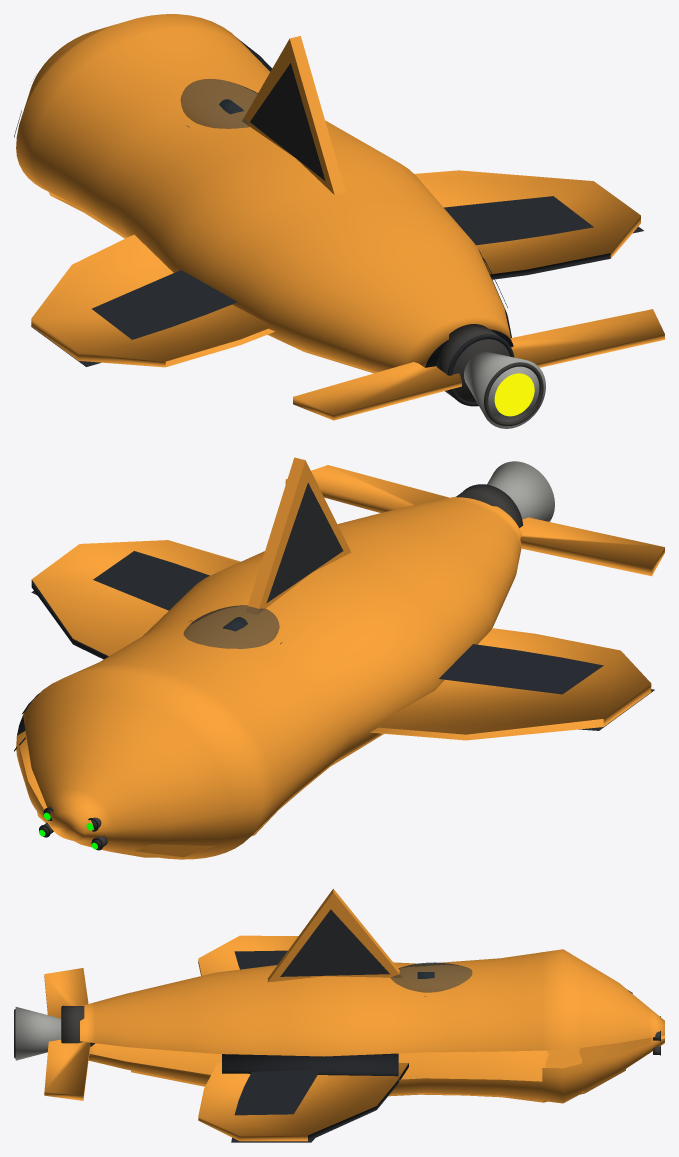
The model's file is Ship_Orca_135963.glb.
3 views of the same model, one above another, from view 1: azimuth 30°, elevation 25°; view 2: azimuth 150°, elevation 25°; view 3: azimuth 270°, elevation 25° (orthographic). The views are drawn at different scales.
Visible parts, largest first — view 1: Fuselage_OrcaCountershadedHull, PectoralFin_Left_AerofoilWingFin, PectoralFin_Right_AerofoilWingFin, PectoralFinPaint_Left_BroadSimplePanelTop, TailFluke_Left_SweptAftStabilizer, TailFluke_Right_SweptAftStabilizer, PectoralFinPaint_Right_BroadSimplePanelTop, DorsalFin_MainSweptKeel, DorsalFinTrimPatch_LeftFace, CanopyGlass_LowInsetDome, EngineBell_MainLargeBurnishedNozzle, EngineMount_AftIntegratedRoundSocket (+3 smaller); view 2: Fuselage_OrcaCountershadedHull, PectoralFin_Left_AerofoilWingFin, PectoralFin_Right_AerofoilWingFin, PectoralFinPaint_Left_BroadSimplePanelTop, TailFluke_Left_SweptAftStabilizer, DorsalFin_MainSweptKeel, DorsalFinTrimPatch_LeftFace, PectoralFinPaint_Right_BroadSimplePanelTop, TailFluke_Right_SweptAftStabilizer, CanopyGlass_LowInsetDome, EngineBell_MainLargeBurnishedNozzle, PaintBelly_LongCountershadeKeelPatch (+1 smaller); view 3: Fuselage_OrcaCountershadedHull, PectoralFin_Right_AerofoilWingFin, DorsalFinTrimPatch_RightFace, PectoralFinRoot_Right_BlendedShoulder, PectoralFinPaint_Right_BroadSimplePanelTop, DorsalFin_MainSweptKeel, TailFluke_Right_SweptAftStabilizer, PectoralFin_Left_AerofoilWingFin, EngineBell_MainLargeBurnishedNozzle, CanopyGlass_LowInsetDome, TailFluke_Left_SweptAftStabilizer, PaintBelly_LongCountershadeKeelPatch (+2 smaller).
Boxes of the visible parts, bbox=[...] form: Fuselage_OrcaCountershadedHull: bbox=[16, 14, 513, 372]; PectoralFin_Left_AerofoilWingFin: bbox=[31, 234, 275, 367]; PectoralFin_Right_AerofoilWingFin: bbox=[414, 170, 640, 279]; PectoralFinPaint_Left_BroadSimplePanelTop: bbox=[91, 270, 237, 339]; TailFluke_Left_SweptAftStabilizer: bbox=[293, 362, 461, 420]; TailFluke_Right_SweptAftStabilizer: bbox=[511, 309, 664, 367]; PectoralFinPaint_Right_BroadSimplePanelTop: bbox=[444, 196, 593, 245]; DorsalFin_MainSweptKeel: bbox=[242, 36, 345, 194]; DorsalFinTrimPatch_LeftFace: bbox=[250, 63, 325, 180]; CanopyGlass_LowInsetDome: bbox=[180, 79, 257, 128]; EngineBell_MainLargeBurnishedNozzle: bbox=[464, 351, 545, 428]; EngineMount_AftIntegratedRoundSocket: bbox=[436, 324, 513, 406]; Fuselage_OrcaCountershadedHull: bbox=[16, 496, 521, 859]; PectoralFin_Left_AerofoilWingFin: bbox=[370, 628, 651, 740]; PectoralFin_Right_AerofoilWingFin: bbox=[31, 540, 240, 659]; PectoralFinPaint_Left_BroadSimplePanelTop: bbox=[439, 644, 603, 694]; TailFluke_Left_SweptAftStabilizer: bbox=[519, 517, 664, 576]; DorsalFin_MainSweptKeel: bbox=[246, 457, 351, 614]; DorsalFinTrimPatch_LeftFace: bbox=[266, 482, 343, 603]; PectoralFinPaint_Right_BroadSimplePanelTop: bbox=[93, 551, 209, 610]; TailFluke_Right_SweptAftStabilizer: bbox=[285, 465, 449, 512]; CanopyGlass_LowInsetDome: bbox=[183, 605, 279, 648]; EngineBell_MainLargeBurnishedNozzle: bbox=[487, 461, 554, 521]; PaintBelly_LongCountershadeKeelPatch: bbox=[37, 733, 383, 857]; Fuselage_OrcaCountershadedHull: bbox=[80, 949, 664, 1103]; PectoralFin_Right_AerofoilWingFin: bbox=[198, 1063, 408, 1141]; DorsalFinTrimPatch_RightFace: bbox=[280, 909, 389, 976]; PectoralFinRoot_Right_BlendedShoulder: bbox=[222, 1053, 398, 1076]; PectoralFinPaint_Right_BroadSimplePanelTop: bbox=[234, 1070, 319, 1115]; DorsalFin_MainSweptKeel: bbox=[267, 888, 402, 982]; TailFluke_Right_SweptAftStabilizer: bbox=[44, 1039, 94, 1100]; PectoralFin_Left_AerofoilWingFin: bbox=[198, 935, 298, 975]; EngineBell_MainLargeBurnishedNozzle: bbox=[15, 1007, 61, 1060]; CanopyGlass_LowInsetDome: bbox=[391, 962, 472, 992]; TailFluke_Left_SweptAftStabilizer: bbox=[44, 968, 88, 1018]; PaintBelly_LongCountershadeKeelPatch: bbox=[131, 1048, 625, 1102].
Bounding box in the file's own units: 5.22 × 2.42 × 7.2.
